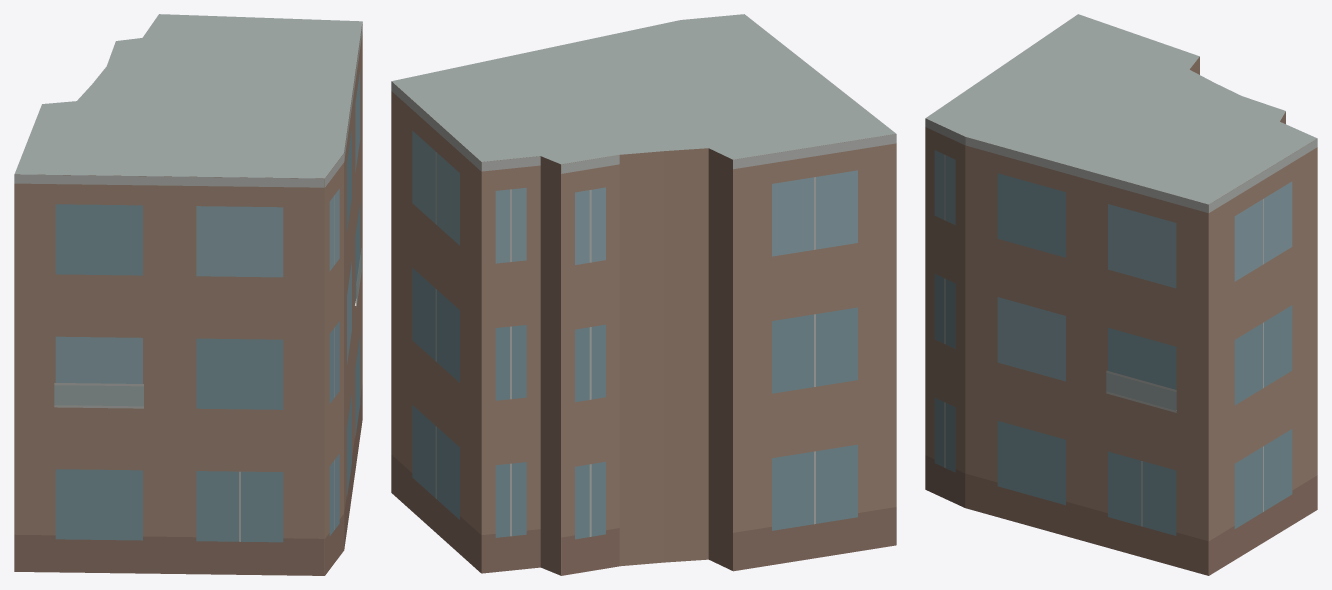
File: survey-upis-32908002.glb
3 renders of one model, left to right at view 1: azimuth 30°, elevation 25°; view 2: azimuth 150°, elevation 25°; view 3: azimuth 270°, elevation 25°, orthographic. The views are drawn at different scales.
Parts seen in each view (by area): view 1: survey-upis-32908002.tmp; view 2: survey-upis-32908002.tmp; view 3: survey-upis-32908002.tmp.
Boxes of the visible parts, box(x1,y1,x2,y2) form: survey-upis-32908002.tmp: box(14, 14, 362, 575); survey-upis-32908002.tmp: box(391, 14, 896, 575); survey-upis-32908002.tmp: box(925, 14, 1317, 575).
Size of the model in its own units: 11.57 by 10.5 by 10.06.
